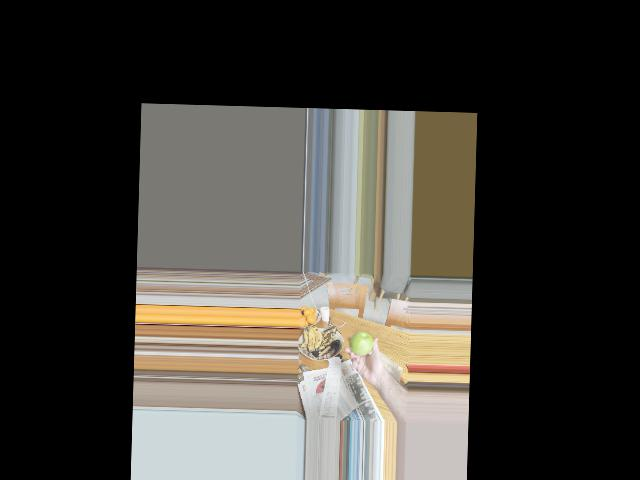apple: (349, 331, 373, 357)
